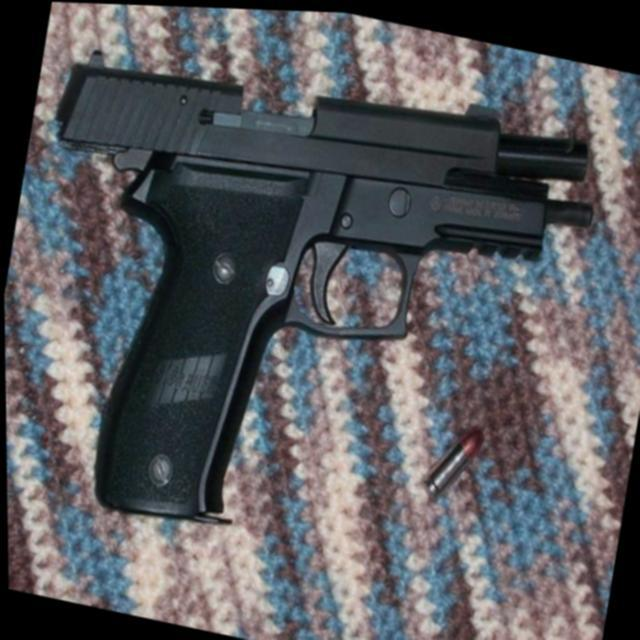weapon: (0, 18, 611, 596)
